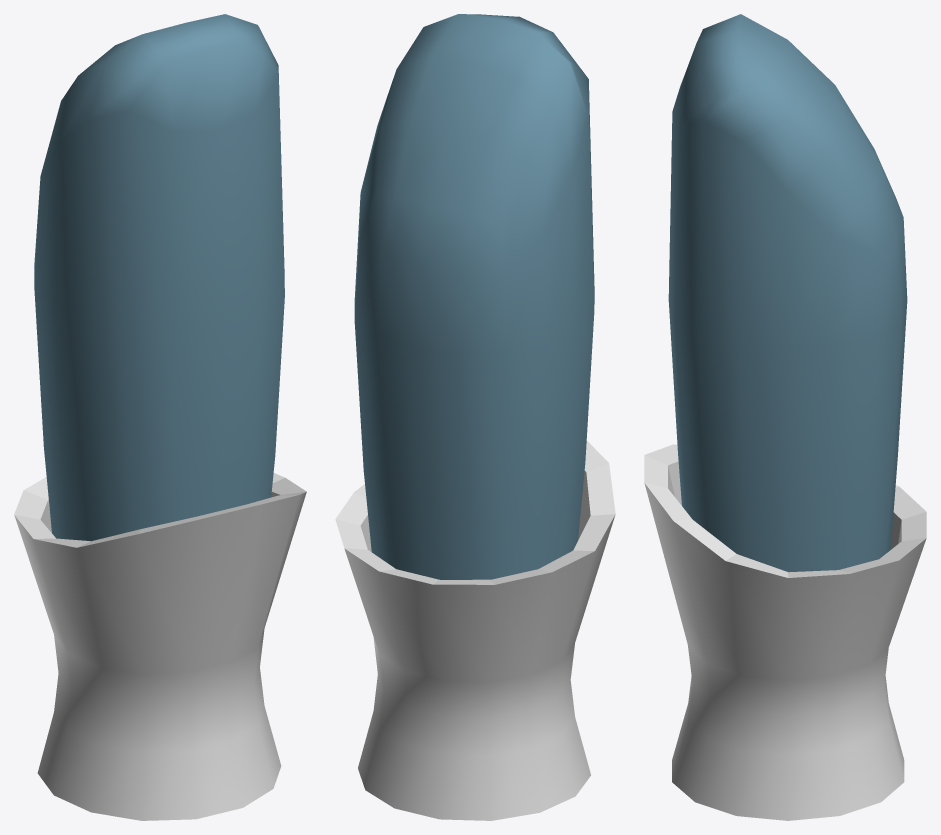
Rendered from lamp_1.fbx.
The picture shows the model from 3 angles, left to right: view 1: azimuth 30°, elevation 25°; view 2: azimuth 150°, elevation 25°; view 3: azimuth 270°, elevation 25°; orthographic projection. The views are drawn at different scales.
Visible parts, largest first — view 1: bulb, lamp_base; view 2: bulb, lamp_base; view 3: bulb, lamp_base.
Part boxes in pixels (left/top/right/bottom): bulb: left=34, top=14, right=284, bottom=541; lamp_base: left=14, top=473, right=306, bottom=820; bulb: left=354, top=14, right=594, bottom=579; lamp_base: left=335, top=440, right=615, bottom=820; bulb: left=668, top=14, right=907, bottom=572; lamp_base: left=644, top=444, right=926, bottom=820.
Size of the model in its own units: 132 by 384 by 133.
